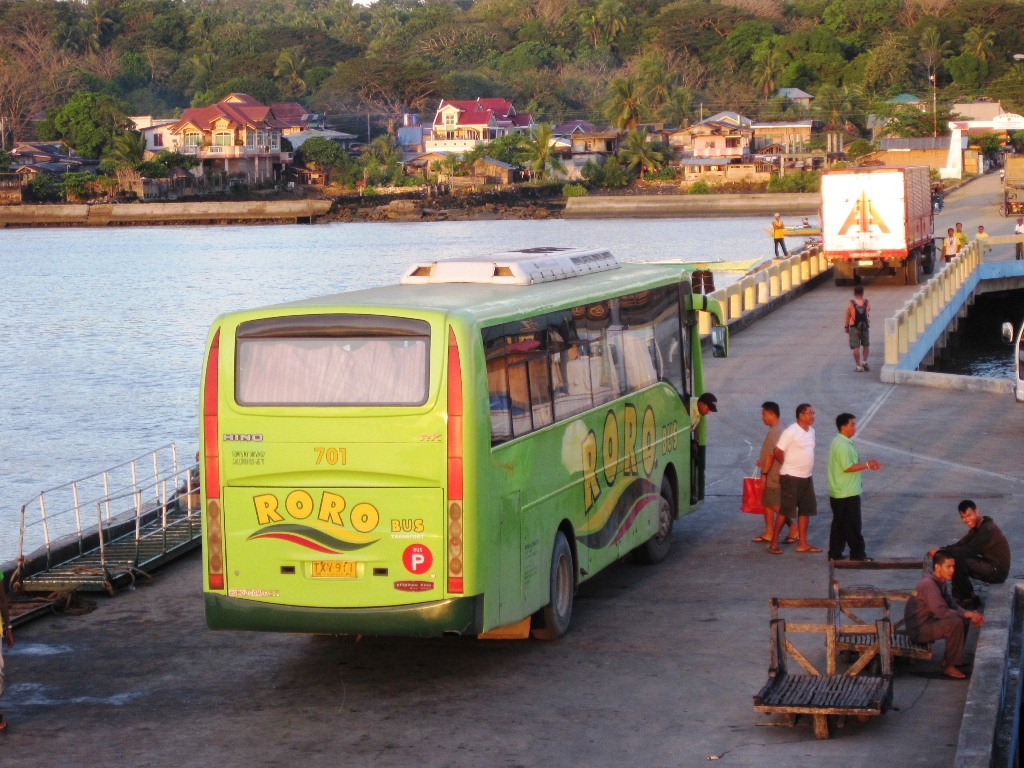bus: (205, 253, 704, 629)
person: (828, 412, 888, 562), (905, 556, 971, 679), (947, 501, 1019, 601), (783, 406, 824, 554), (752, 399, 793, 546), (848, 287, 878, 372), (689, 387, 719, 438)
